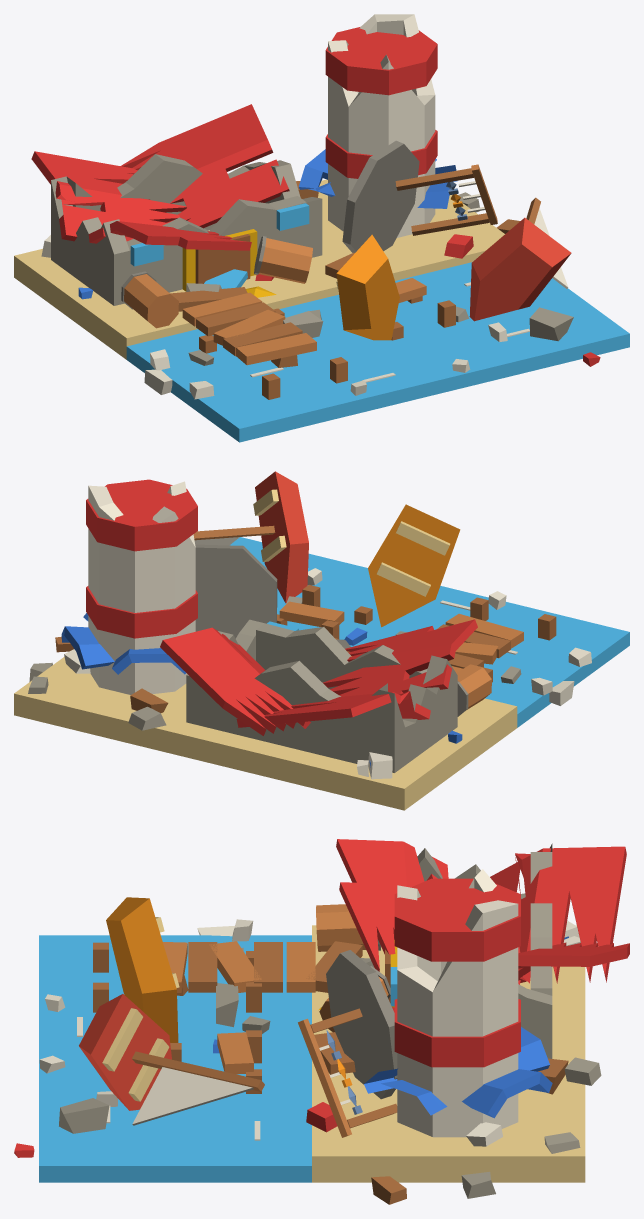
Rendered from fishery_t3_v3_dmg2.glb.
3 views of the same model, one above another, from view 1: azimuth 30°, elevation 25°; view 2: azimuth 150°, elevation 25°; view 3: azimuth 270°, elevation 25° (orthographic). The views are drawn at different scales.
Parts seen in each view (by area): view 1: fishery_t3_v3_dmg2; view 2: fishery_t3_v3_dmg2; view 3: fishery_t3_v3_dmg2.
Boxes of the visible parts, x1,y1,x2,y2 form: fishery_t3_v3_dmg2: (14, 14, 629, 442); fishery_t3_v3_dmg2: (14, 471, 629, 810); fishery_t3_v3_dmg2: (14, 839, 629, 1204).
Bounding box in the file's own units: 0.8489 × 0.3792 × 0.8459.
Materials: 1 (1 with a texture image).
